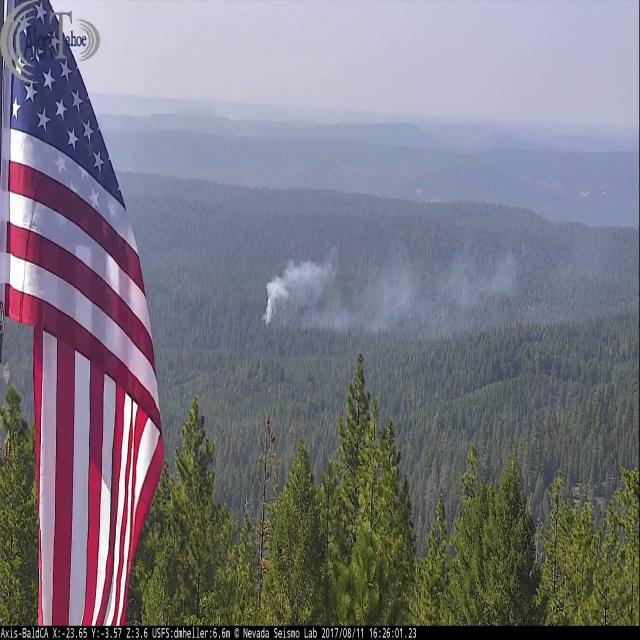smoke: (259, 204, 640, 329)
